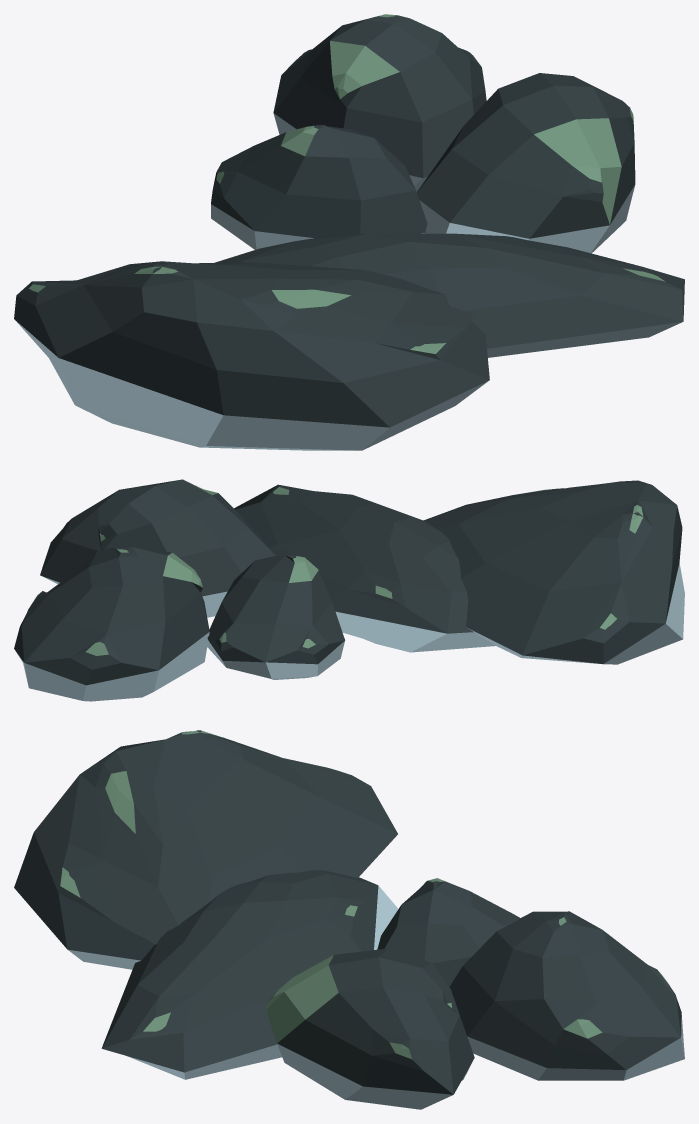
Rendered from moho.fbx.
3 renders of one model, top to bottom at view 1: azimuth 30°, elevation 25°; view 2: azimuth 150°, elevation 25°; view 3: azimuth 270°, elevation 25°, orthographic. The views are drawn at different scales.
Visible parts, largest first — view 1: Cube.002, Cube.004, Cube.003, Cube.001, Cube.006; view 2: Cube.002, Cube.003, Cube.001, Cube.004, Cube.006; view 3: Cube.002, Cube.003, Cube.001, Cube.004, Cube.006.
Boxes of the visible parts, <box> form: Cube.002: <box>14,261,489,450</box>; Cube.004: <box>417,73,635,253</box>; Cube.003: <box>214,233,684,357</box>; Cube.001: <box>273,14,486,191</box>; Cube.006: <box>211,125,427,249</box>; Cube.002: <box>423,480,684,664</box>; Cube.003: <box>234,484,495,652</box>; Cube.001: <box>14,547,209,701</box>; Cube.004: <box>40,479,276,617</box>; Cube.006: <box>207,555,345,679</box>; Cube.002: <box>14,730,397,969</box>; Cube.003: <box>101,870,398,1079</box>; Cube.001: <box>449,911,684,1080</box>; Cube.004: <box>266,948,474,1109</box>; Cube.006: <box>377,878,520,986</box>.
Size of the model in its own units: 33.41 by 7.52 by 32.54.
